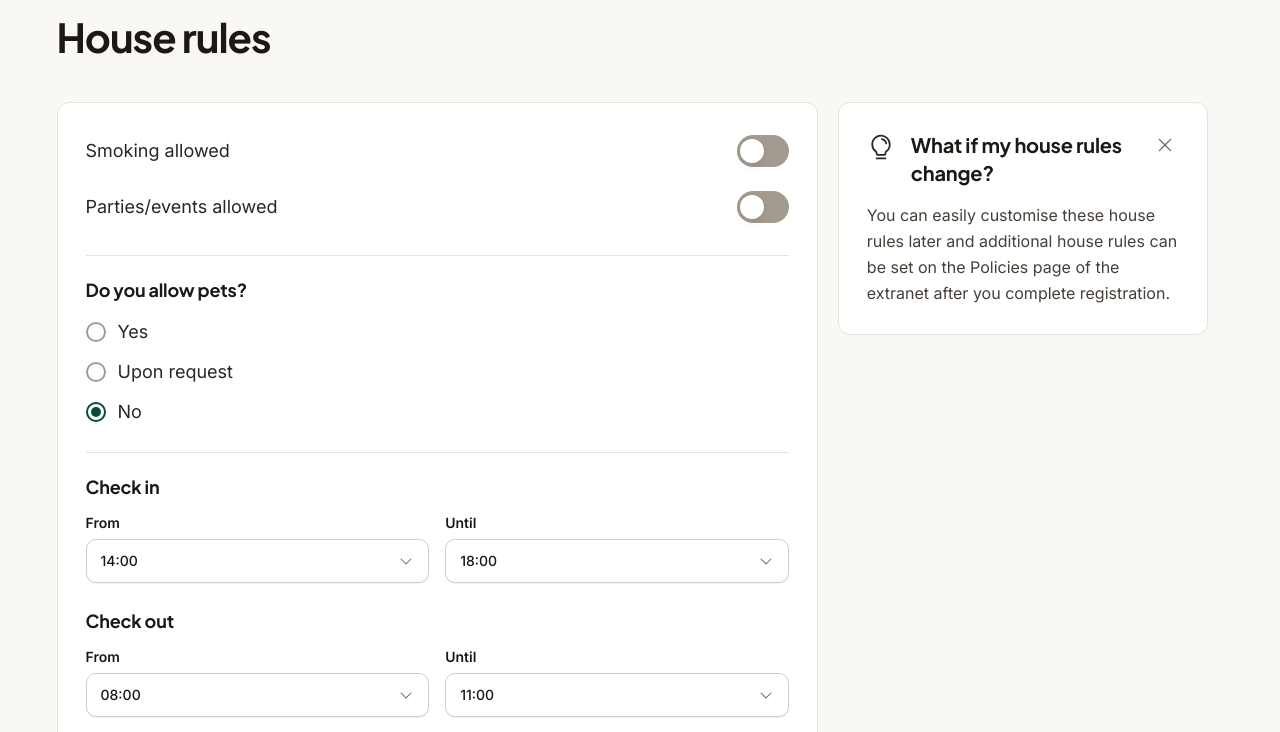
Test case: Step05HouseRules — the reference page › dismisses the tips card
Click the button named "dismiss house rules tips" at coordinates (1166, 145), box [1152, 131, 1180, 159]
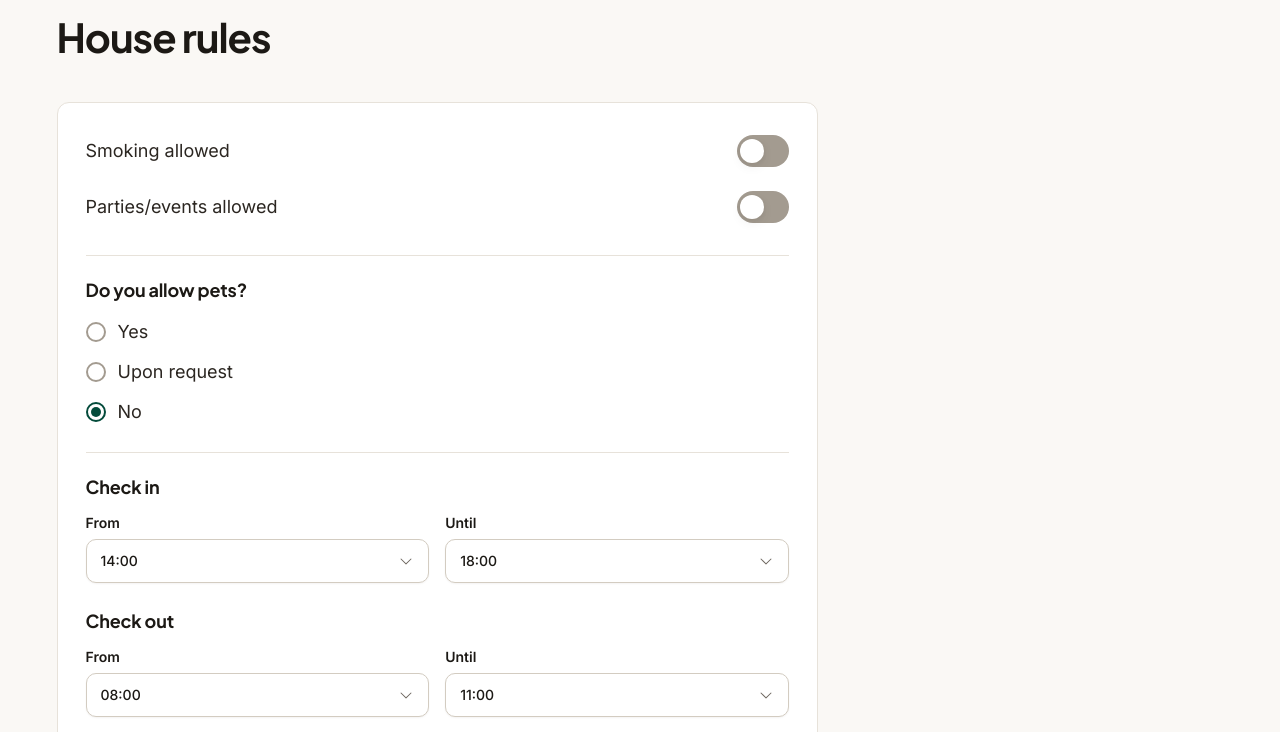
Expected: the heading "What if my house rules change?" is gone
